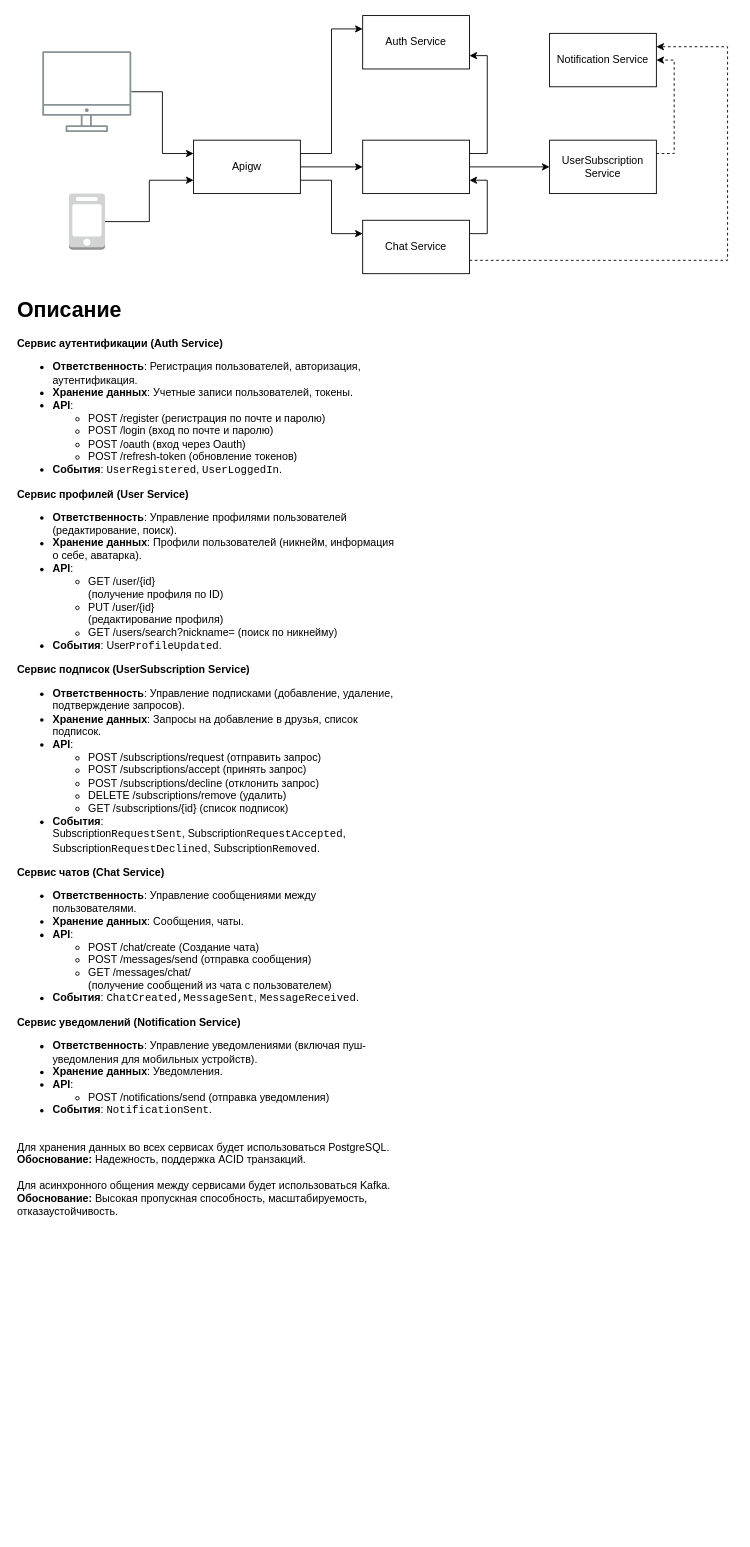
This 750x1547 diagram has some shape labels left out. The shapes that lost their labels are listed below. From the top down, each one's centre as x and y in pixels, then its label:
At point 86,91: "desktop".
At point 415,166: "User Service".
